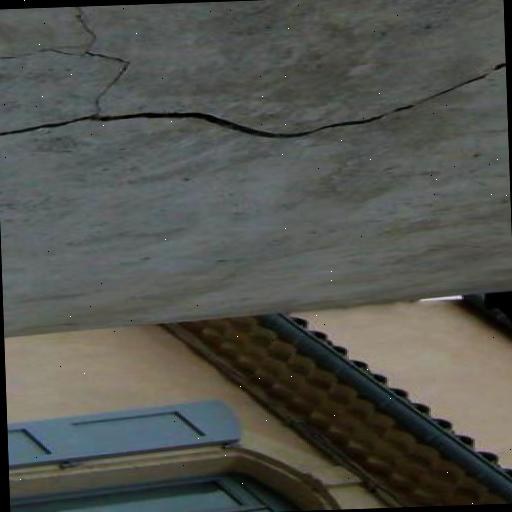spalling: (0, 60, 502, 143), (63, 16, 138, 107)
